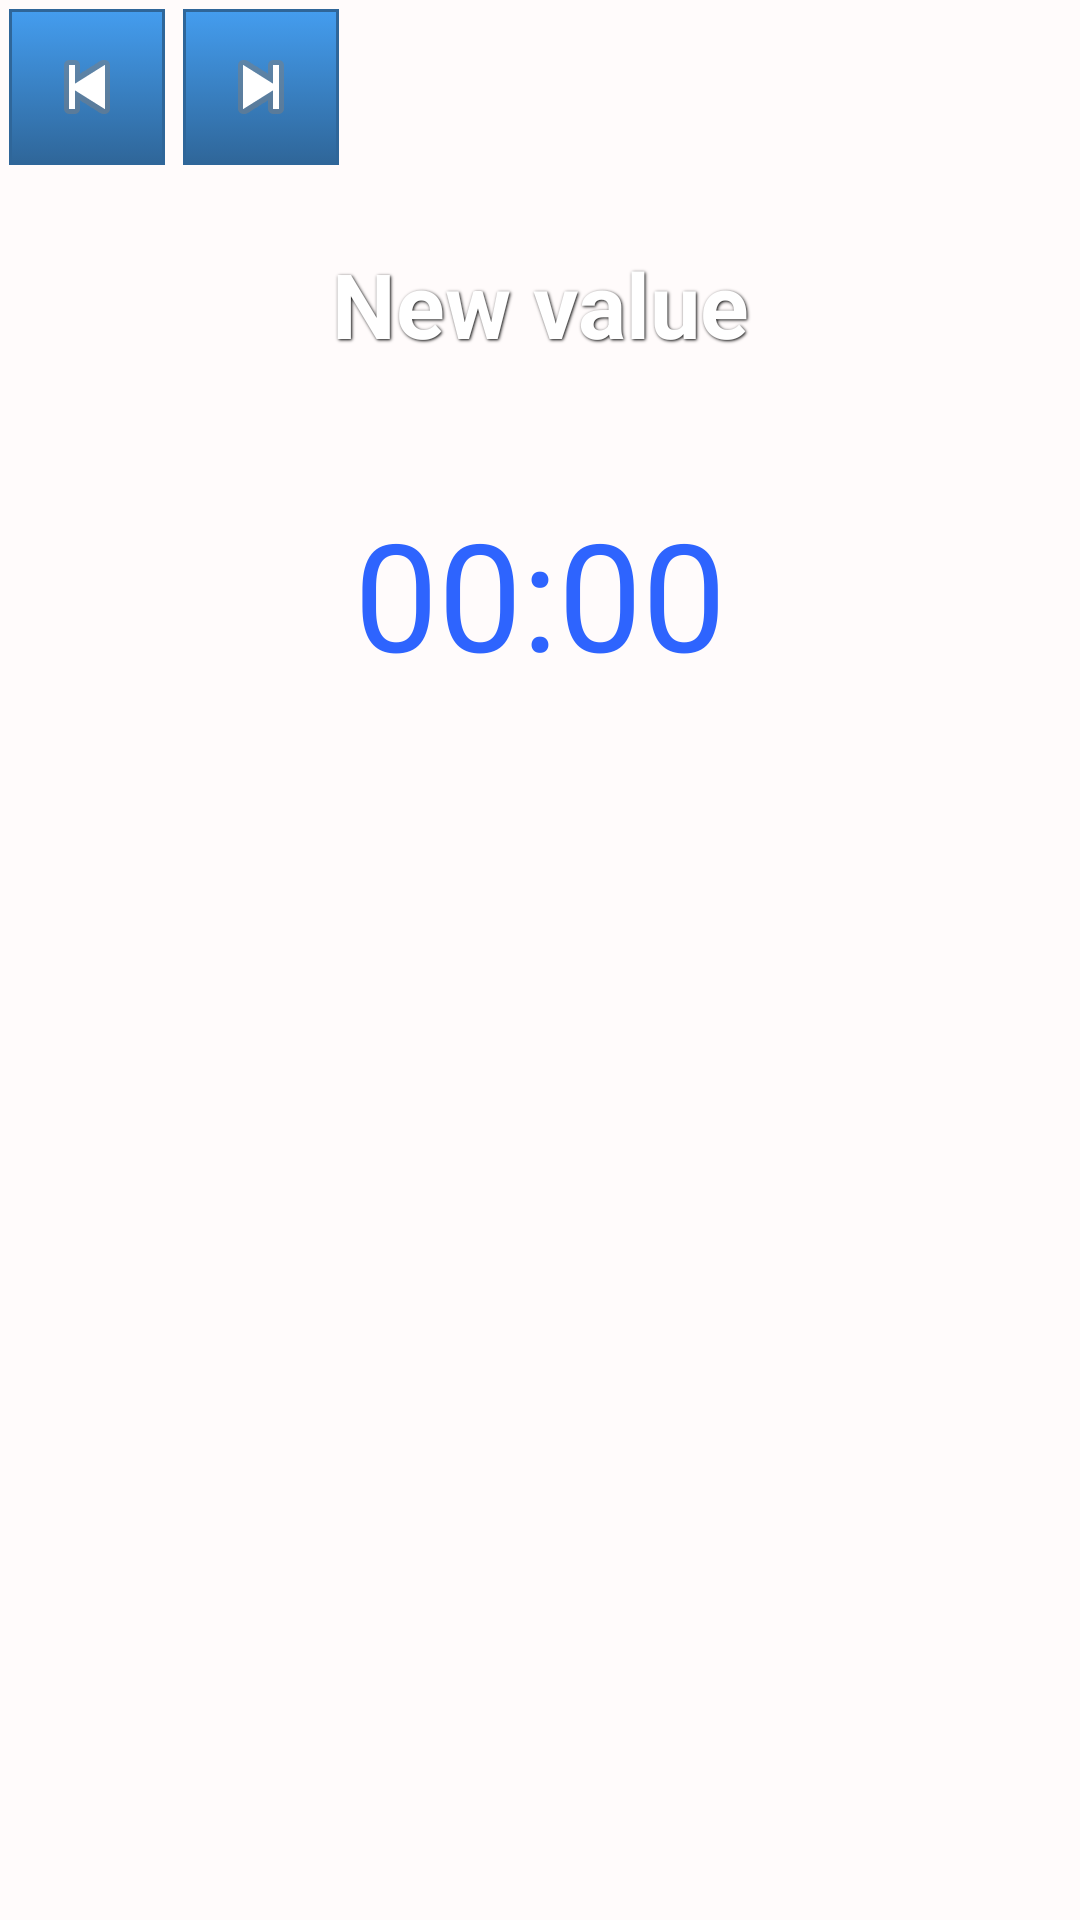

Screen size 1080x1920. Icon name, then its box in pixels as (x1, y1, x2, y2):
next: (183, 9, 339, 165)
previous: (9, 9, 165, 165)
